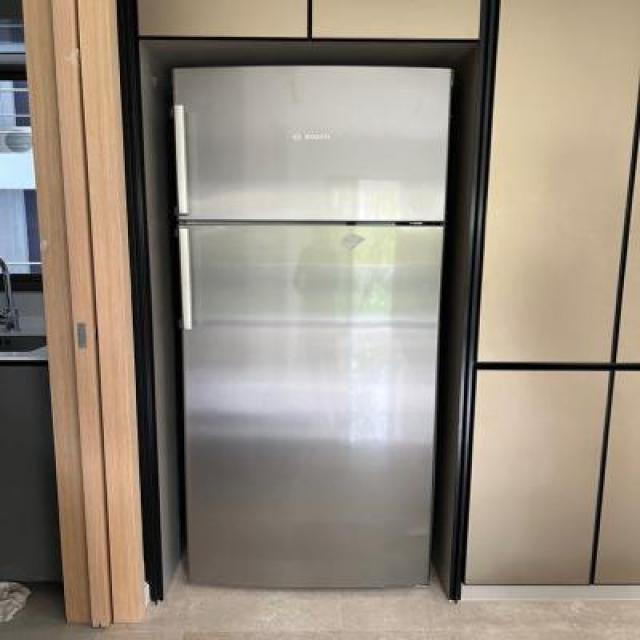refrigerator: (163, 21, 456, 612)
